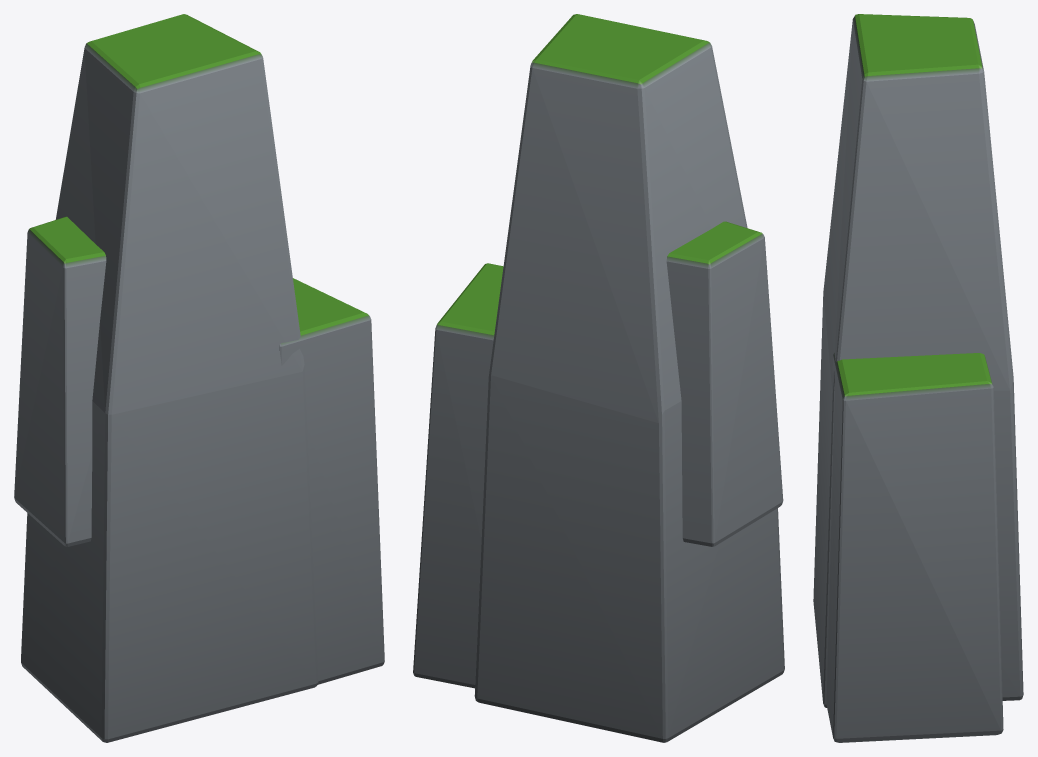
File: Rock_Sharp_Spire_01.fbx
The picture shows the model from 3 angles, left to right: view 1: azimuth 30°, elevation 25°; view 2: azimuth 150°, elevation 25°; view 3: azimuth 270°, elevation 25°; orthographic projection. The views are drawn at different scales.
Visible parts, largest first — view 1: Rock_Sharp_Spire_01; view 2: Rock_Sharp_Spire_01; view 3: Rock_Sharp_Spire_01.
Boxes of the visible parts, left/top/right/bottom form: Rock_Sharp_Spire_01: left=14, top=14, right=384, bottom=742; Rock_Sharp_Spire_01: left=413, top=14, right=784, bottom=742; Rock_Sharp_Spire_01: left=813, top=14, right=1023, bottom=742.
Size of the model in its own units: 349 by 680 by 209.
